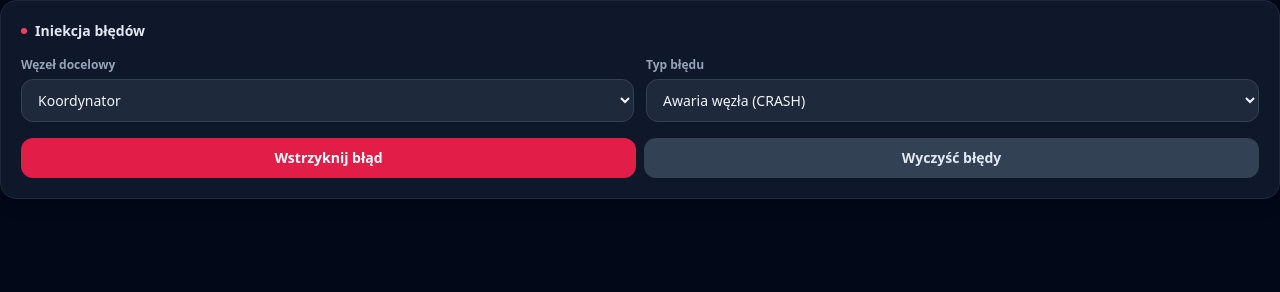
Test: FaultInjectionPanel › render_givenNetworkDelaySelected_showsDelayInput
Select "Opóźnienie sieci" in the dropdown labelled "Typ błędu" at (952, 100), box 646,79 -> 1259,122
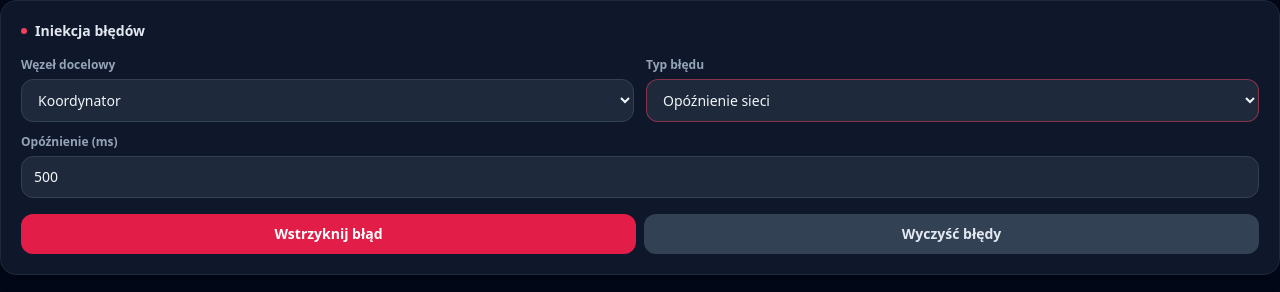
Result: the number field is shown at 21,156 -> 1259,198
